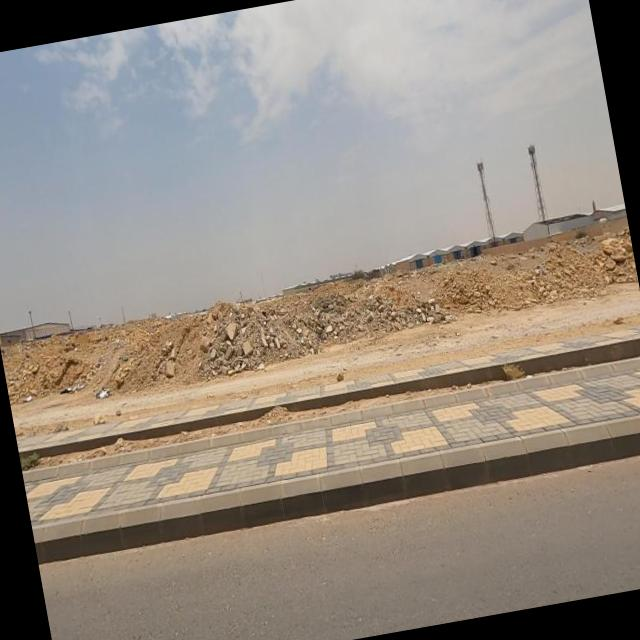debris: (44, 336, 146, 442), (28, 348, 118, 440)
